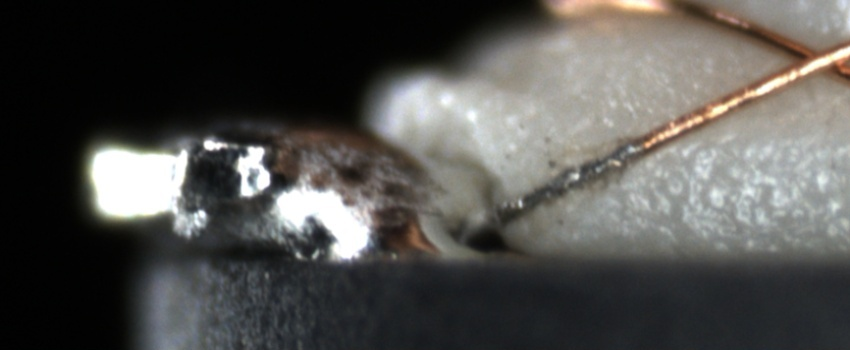CL: (773, 32, 848, 85)
DL: (684, 115, 850, 179)
TS: (463, 136, 644, 243)
TTCW: (497, 111, 704, 225)
